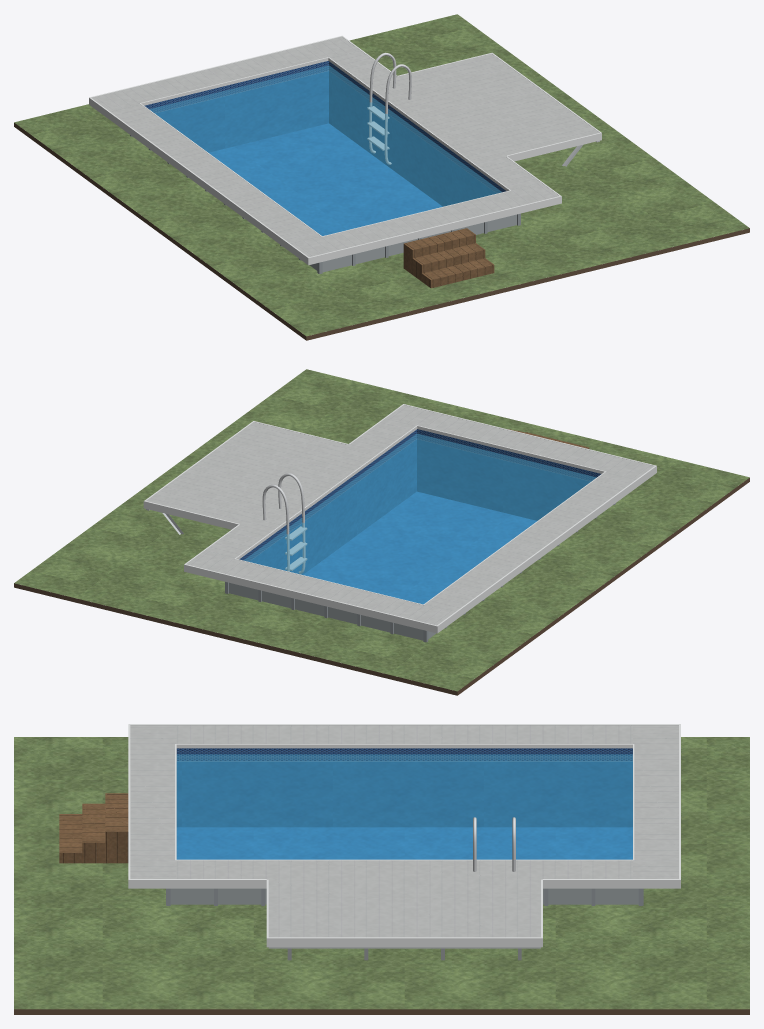
Rendered from kayak-pool-12x20-gray-t-rec-nofence.40e89e1852.glb.
3 views of the same model, one above another, from view 1: azimuth 30°, elevation 25°; view 2: azimuth 150°, elevation 25°; view 3: azimuth 270°, elevation 25° (orthographic). The views are drawn at different scales.
Parts seen in each view (by area): view 1: ground, water, deck, liner_wall, liner_floor, fascia, steps, soil, wall, steel; view 2: ground, water, deck, liner_wall, liner_floor, fascia, soil, wall, steel; view 3: ground, water, deck, liner_wall, liner_floor, fascia, soil, steps, wall, stud, upright.
Boxes of the visible parts, x1=… form: ground: x1=14, y1=14, x2=749, y2=336; water: x1=149, y1=65, x2=501, y2=235; deck: x1=92, y1=37, x2=599, y2=257; liner_wall: x1=144, y1=61, x2=506, y2=206; liner_floor: x1=209, y1=123, x2=442, y2=235; fascia: x1=89, y1=35, x2=601, y2=265; steps: x1=403, y1=228, x2=494, y2=288; soil: x1=14, y1=122, x2=749, y2=340; wall: x1=309, y1=214, x2=516, y2=272; steel: x1=367, y1=52, x2=411, y2=164; ground: x1=14, y1=369, x2=749, y2=691; water: x1=244, y1=433, x2=596, y2=604; deck: x1=146, y1=405, x2=654, y2=625; liner_wall: x1=239, y1=429, x2=601, y2=574; liner_floor: x1=303, y1=491, x2=536, y2=604; fascia: x1=143, y1=404, x2=656, y2=633; soil: x1=14, y1=477, x2=749, y2=695; wall: x1=229, y1=582, x2=435, y2=640; steel: x1=262, y1=473, x2=307, y2=573; ground: x1=14, y1=737, x2=749, y2=1009; water: x1=176, y1=754, x2=632, y2=859; deck: x1=130, y1=725, x2=678, y2=937; liner_wall: x1=176, y1=748, x2=632, y2=827; liner_floor: x1=176, y1=827, x2=632, y2=859; fascia: x1=128, y1=724, x2=680, y2=947; soil: x1=14, y1=1009, x2=749, y2=1014; steps: x1=59, y1=793, x2=128, y2=863; wall: x1=170, y1=888, x2=638, y2=904; stud: x1=268, y1=947, x2=540, y2=960; upright: x1=166, y1=888, x2=643, y2=905.
Size of the model in its own units: 8.53 by 1.9 by 9.75.
Materials: 12 (5 with a texture image).
